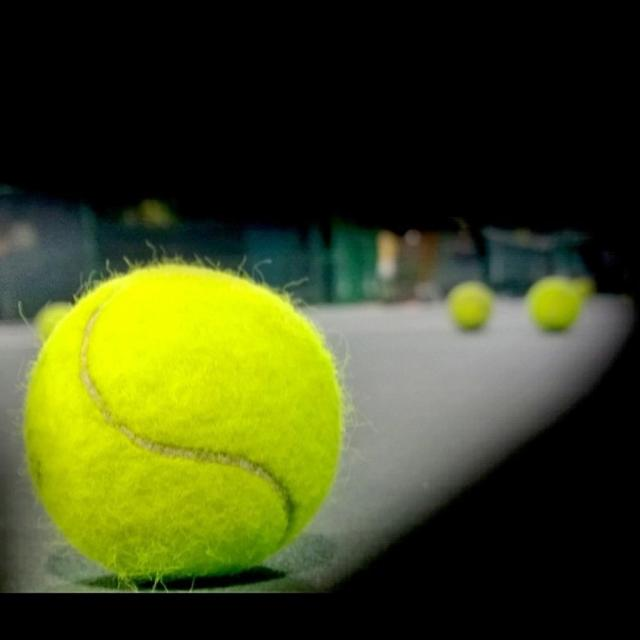Tennis ball: (12, 240, 360, 594)
